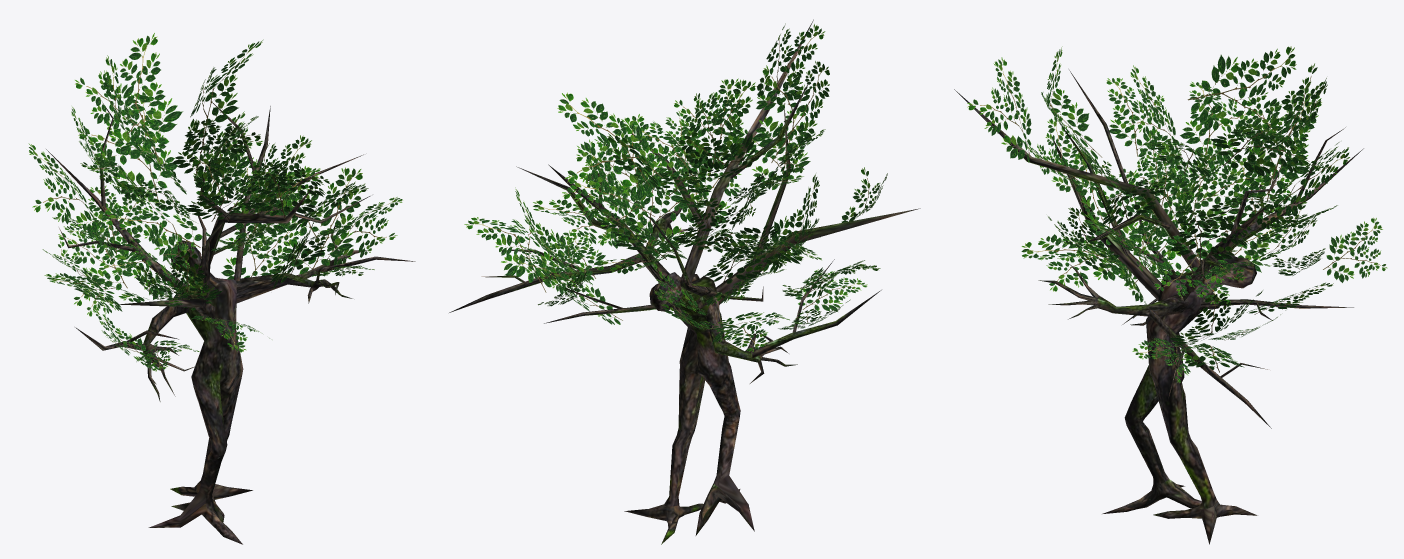
The model's file is tree_hitogata2_3.fbx.
3 renders of one model, left to right at view 1: azimuth 30°, elevation 25°; view 2: azimuth 150°, elevation 25°; view 3: azimuth 270°, elevation 25°, orthographic. The views are drawn at different scales.
Visible parts, largest first — view 1: tree_hitogata2_3; view 2: tree_hitogata2_3; view 3: tree_hitogata2_3.
Part boxes in pixels (x1,y1,x2,y2): tree_hitogata2_3: (28, 33, 415, 544); tree_hitogata2_3: (449, 19, 920, 544); tree_hitogata2_3: (954, 46, 1387, 544).
Size of the model in its own units: 15.52 by 16.38 by 14.16.
